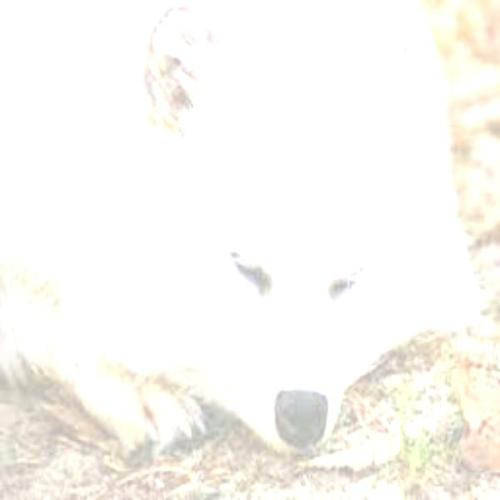arctic_fox-endangered: (71, 7, 460, 452)
